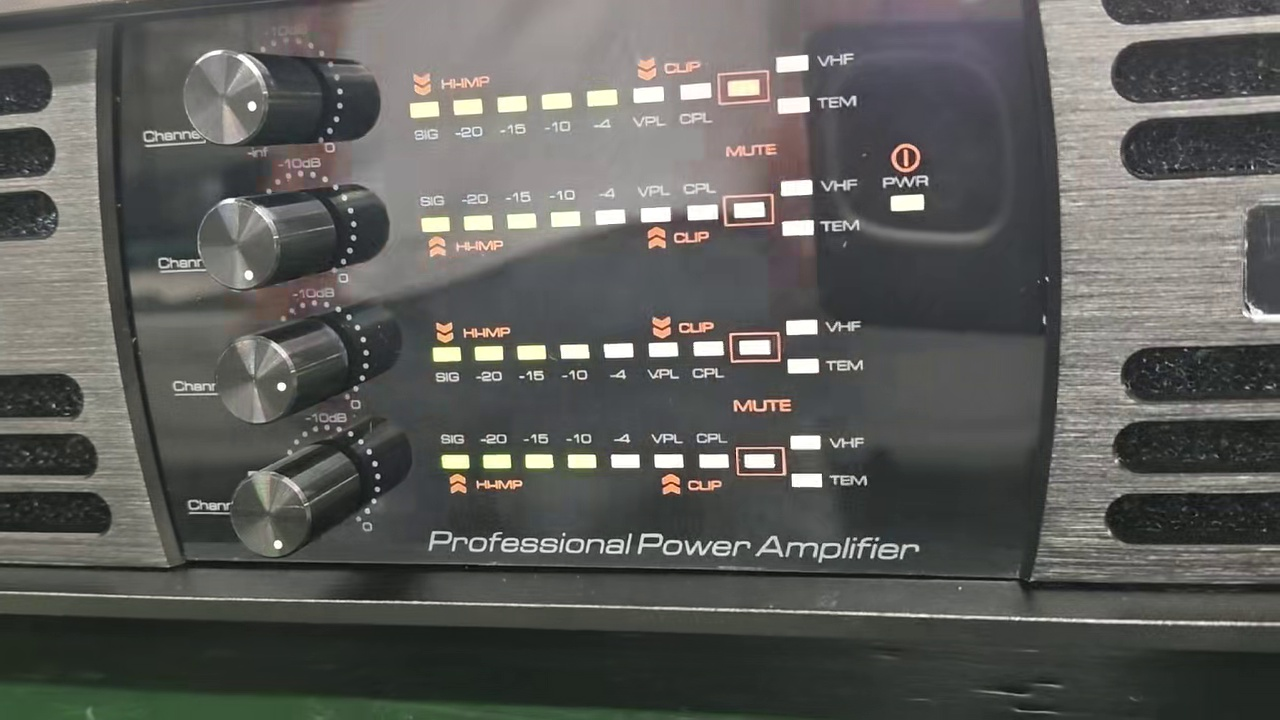FP_CPL: (677, 79, 717, 135), (682, 176, 720, 228), (689, 333, 726, 385), (692, 429, 730, 475)
FP_PWR: (877, 171, 935, 218)
FP_PWR_area: (876, 134, 939, 222)
FP_SIG_area: (401, 43, 865, 146), (416, 177, 865, 256), (435, 424, 876, 501), (422, 316, 890, 387)
FP_VPL: (627, 83, 673, 137), (641, 337, 684, 385), (635, 181, 675, 227), (649, 428, 687, 473)
